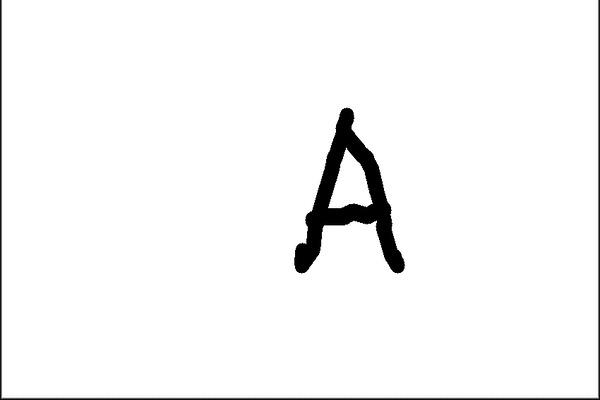A: (282, 105, 417, 283)
